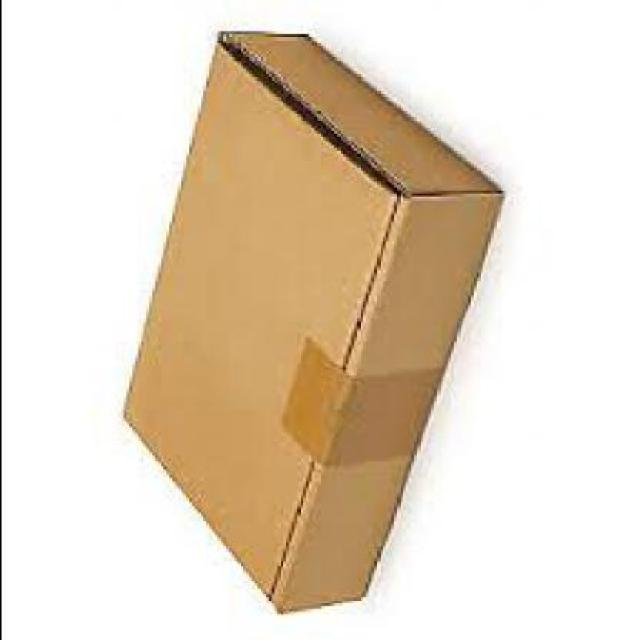CARDBOARD: (116, 26, 501, 612)
